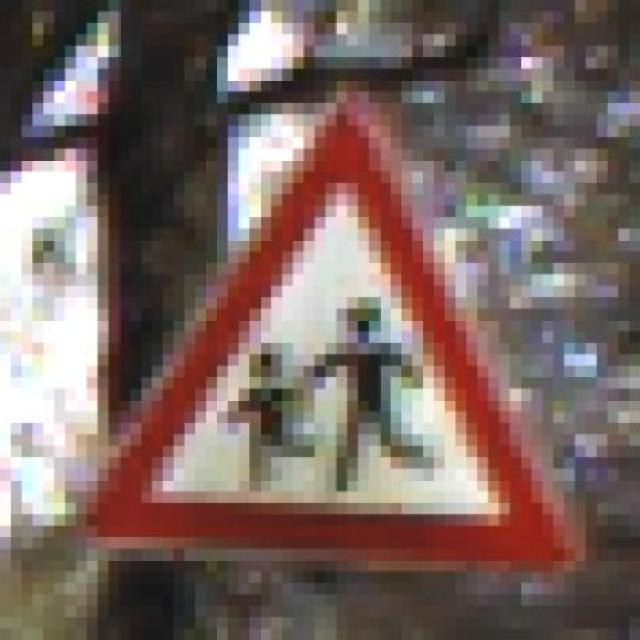Beware of children: (65, 91, 597, 606)
